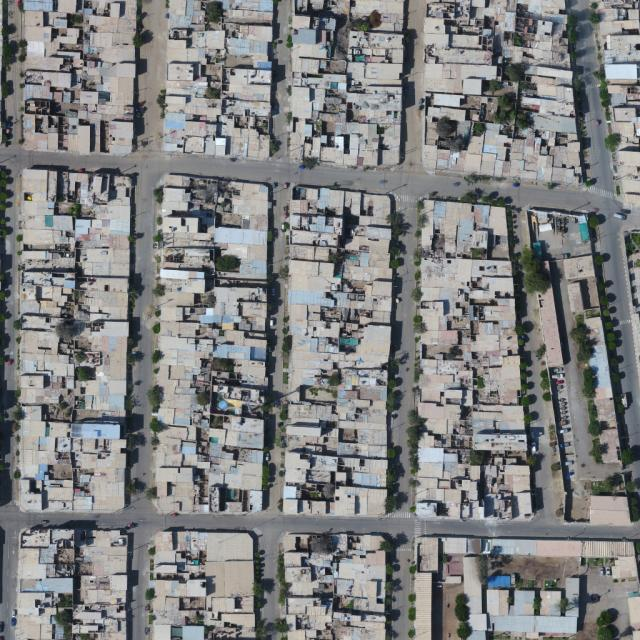building: (148, 173, 276, 517), (13, 169, 133, 513), (282, 185, 395, 517), (415, 200, 532, 519), (421, 0, 585, 186), (288, 0, 404, 169), (162, 0, 272, 159), (17, 527, 128, 639), (282, 534, 386, 639), (584, 316, 616, 430), (535, 285, 565, 368), (490, 615, 578, 633), (590, 495, 632, 526), (462, 554, 483, 614), (415, 572, 432, 639), (582, 540, 635, 558), (561, 255, 595, 282), (416, 537, 439, 573), (536, 539, 583, 556), (599, 429, 620, 464), (491, 539, 536, 554), (611, 555, 638, 579), (566, 281, 585, 315), (486, 588, 509, 616), (565, 577, 580, 617), (539, 589, 561, 616), (514, 590, 535, 615), (444, 537, 468, 554), (469, 614, 488, 631), (445, 574, 463, 584), (468, 630, 486, 639)
dryland: (489, 556, 565, 589), (442, 584, 464, 639)
greenland: (564, 313, 600, 366), (518, 244, 551, 296), (588, 472, 626, 498), (596, 610, 615, 640), (587, 400, 601, 437), (582, 366, 596, 399), (588, 437, 605, 463), (544, 579, 559, 592), (589, 592, 602, 602), (526, 578, 535, 588)
metalled_road: (489, 129, 640, 505), (0, 149, 431, 207), (0, 504, 150, 640), (161, 0, 279, 159), (516, 280, 567, 522), (271, 510, 640, 541), (123, 196, 158, 509), (568, 0, 616, 195), (385, 287, 424, 514), (263, 182, 289, 472), (133, 0, 168, 152), (401, 0, 426, 166), (148, 507, 276, 537), (427, 171, 518, 209), (127, 523, 149, 640), (395, 250, 415, 348), (391, 204, 417, 262), (264, 471, 284, 518), (4, 424, 22, 469), (5, 318, 22, 352), (5, 229, 20, 262)
